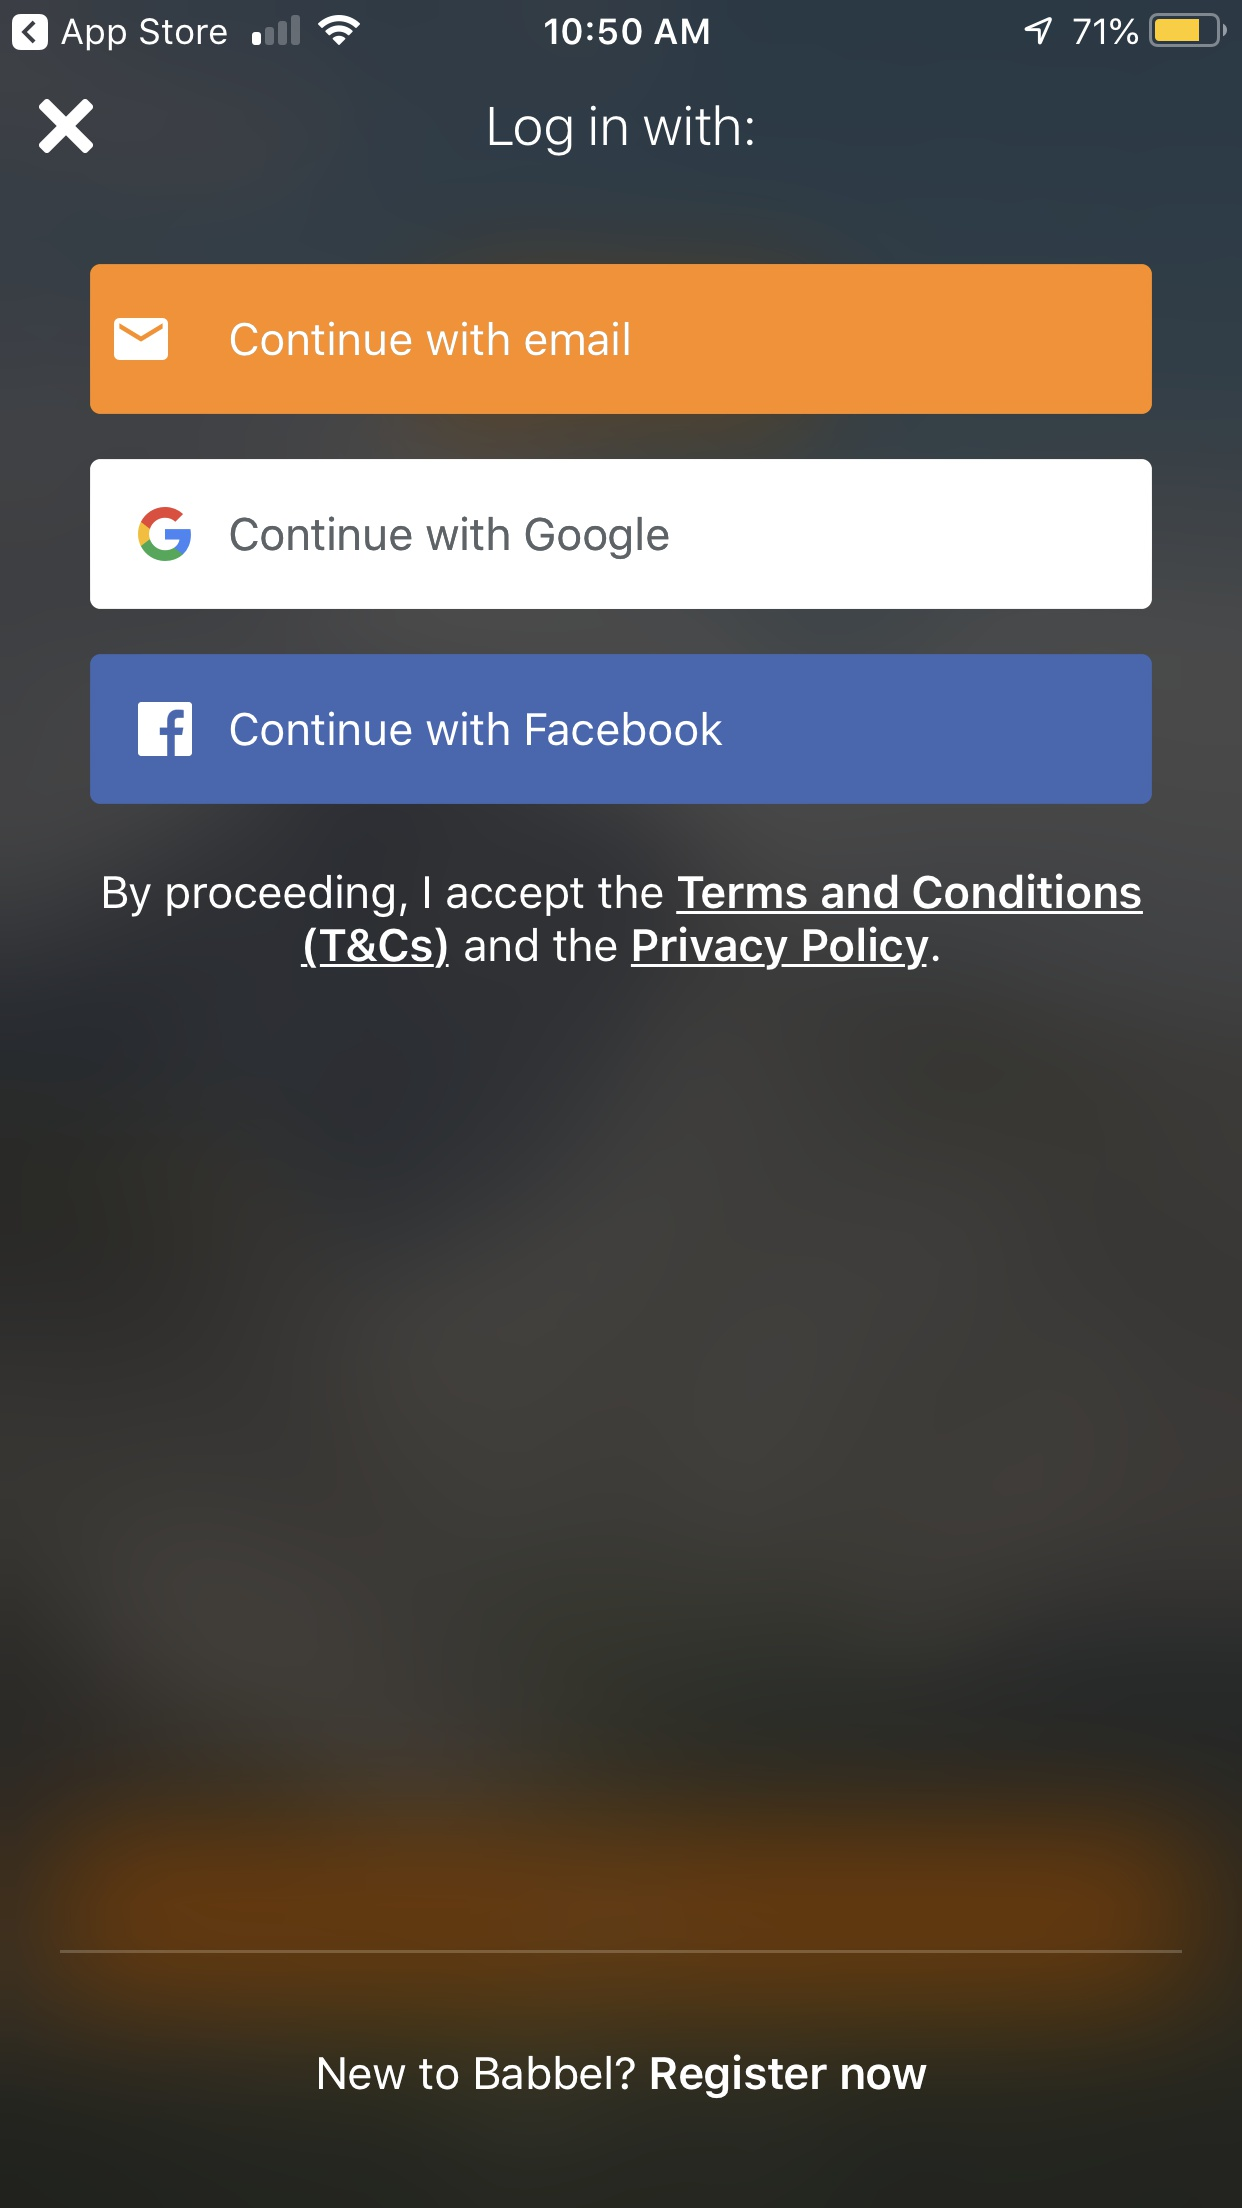Icon: (38, 99, 96, 156)
Text: (105, 873, 1143, 972), (318, 2053, 928, 2100), (488, 105, 754, 158)
TextButton: (89, 654, 1153, 805), (89, 264, 1153, 416), (91, 459, 1153, 610)
UpperTaskBar: (2, 2, 1242, 53)
